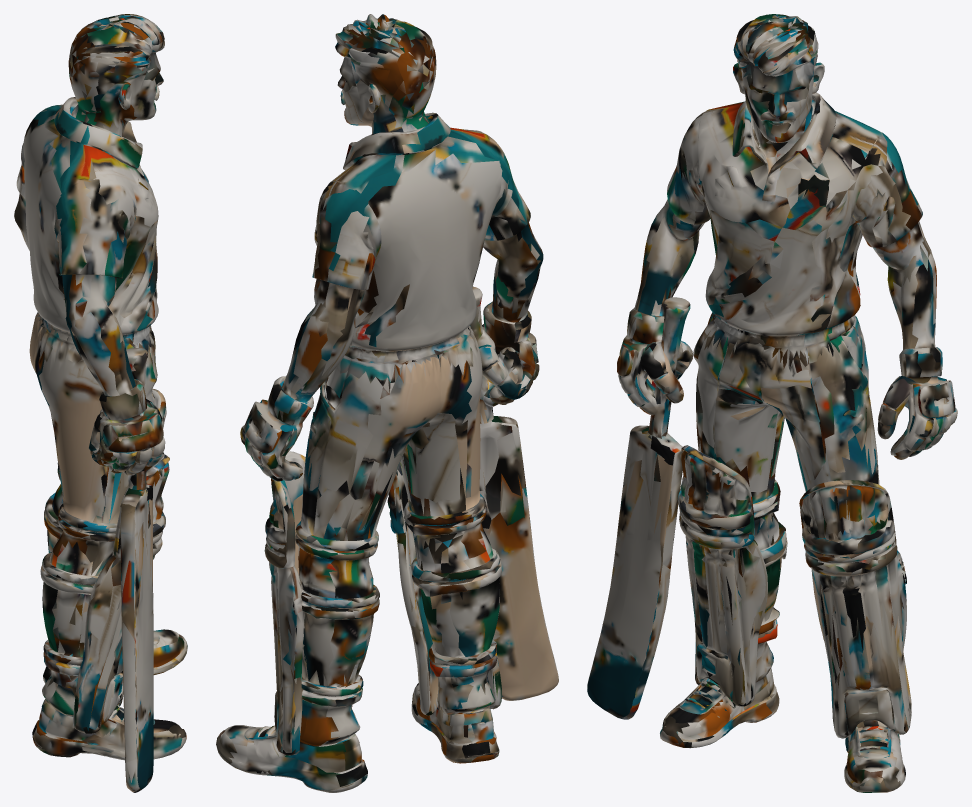
The model's file is SM_C26_Player_Keeper.fbx.
3 views of the same model, side by side, from view 1: azimuth 30°, elevation 25°; view 2: azimuth 150°, elevation 25°; view 3: azimuth 270°, elevation 25° (orthographic). The views are drawn at different scales.
Parts seen in each view (by area): view 1: node_0; view 2: node_0; view 3: node_0.
Part boxes in pixels (x1,y1,x2,y2): node_0: [14, 14, 187, 792]; node_0: [216, 14, 558, 792]; node_0: [587, 14, 957, 792].
Bounding box in the file's own units: 80.29 × 55.55 × 174.
